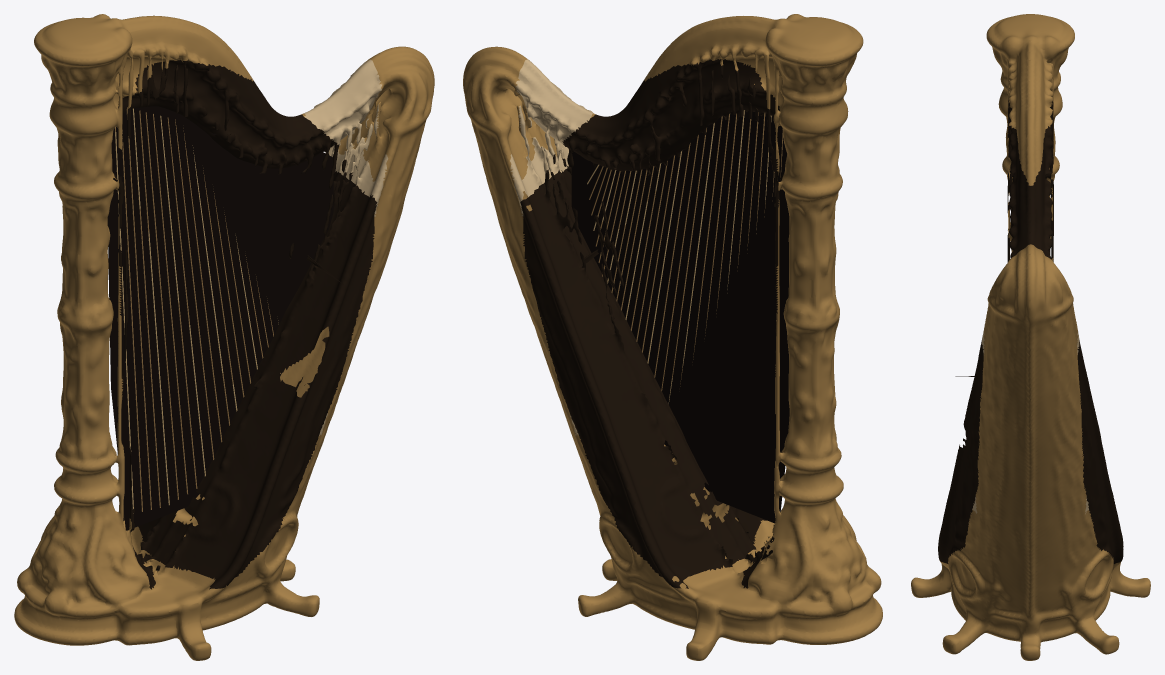
The model's file is harpa.glb.
The picture shows the model from 3 angles, left to right: view 1: azimuth 30°, elevation 25°; view 2: azimuth 150°, elevation 25°; view 3: azimuth 270°, elevation 25°; orthographic projection. The views are drawn at different scales.
Visible parts, largest first — view 1: tmpomt5fuby.ply, Fundo escuro da caixa de cordas, Cordas - reconstruidas; view 2: tmpomt5fuby.ply, Fundo escuro da caixa de cordas, Cordas - reconstruidas; view 3: tmpomt5fuby.ply.
Part boxes in pixels (<box>): tmpomt5fuby.ply: <box>14,14,434,660</box>; Fundo escuro da caixa de cordas: <box>107,106,333,530</box>; Cordas - reconstruidas: <box>114,107,280,513</box>; tmpomt5fuby.ply: <box>463,14,882,660</box>; Fundo escuro da caixa de cordas: <box>571,110,789,523</box>; Cordas - reconstruidas: <box>587,110,783,403</box>; tmpomt5fuby.ply: <box>911,14,1150,660</box>.
Bounding box in the file's own units: 1.41 × 1.96 × 0.7788.
